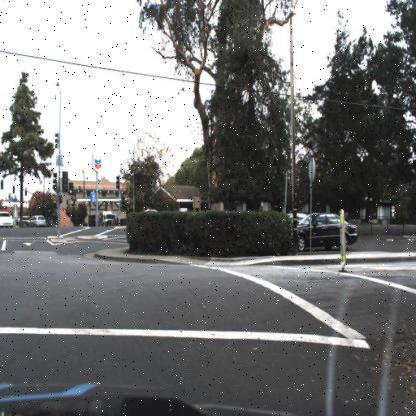car: (291, 208, 360, 252), (280, 208, 315, 236), (0, 210, 14, 230)
